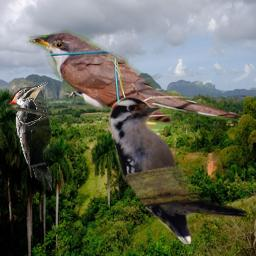Cuckoo: (27, 27, 246, 133)
Woodpecker: (109, 97, 247, 244), (8, 82, 52, 194)
